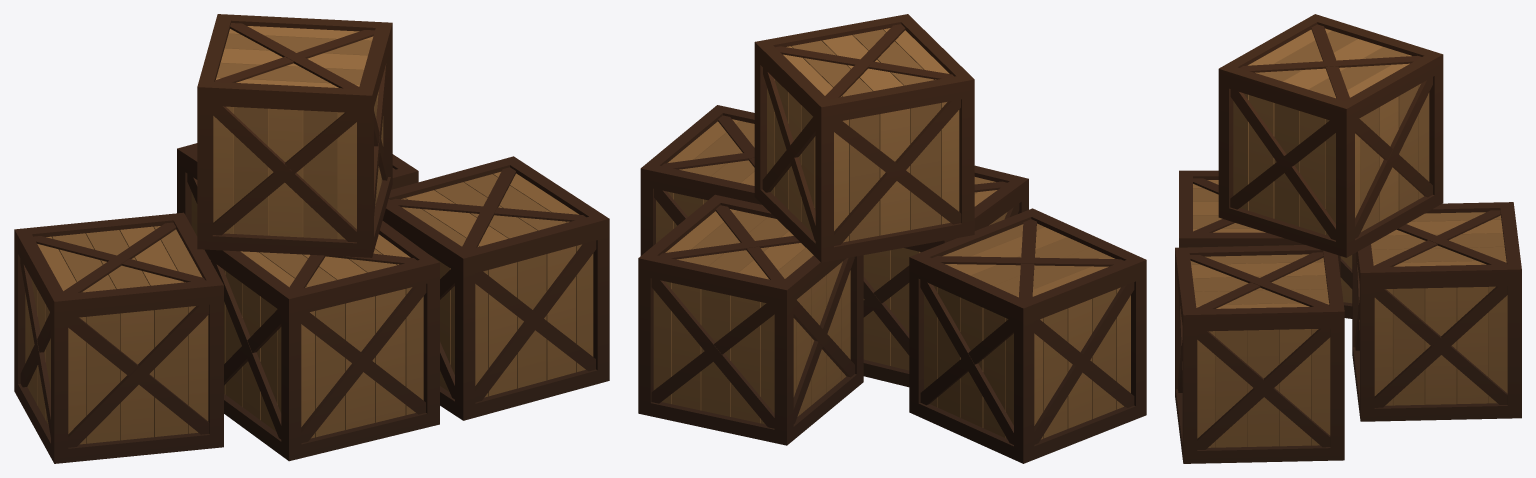
The model's file is Prop_Crate_Box_Pile_01.obj.
3 renders of one model, left to right at view 1: azimuth 30°, elevation 25°; view 2: azimuth 150°, elevation 25°; view 3: azimuth 270°, elevation 25°, orthographic. The views are drawn at different scales.
Parts seen in each view (by area): view 1: Prop_Crate_Box_Pile_01; view 2: Prop_Crate_Box_Pile_01; view 3: Prop_Crate_Box_Pile_01.
Part boxes in pixels (x1,y1,x2,y2): Prop_Crate_Box_Pile_01: [14, 14, 609, 463]; Prop_Crate_Box_Pile_01: [638, 14, 1146, 463]; Prop_Crate_Box_Pile_01: [1175, 14, 1521, 463].
Size of the model in its own units: 2.49 by 1.54 by 1.63.
1 material, 1 textured.
